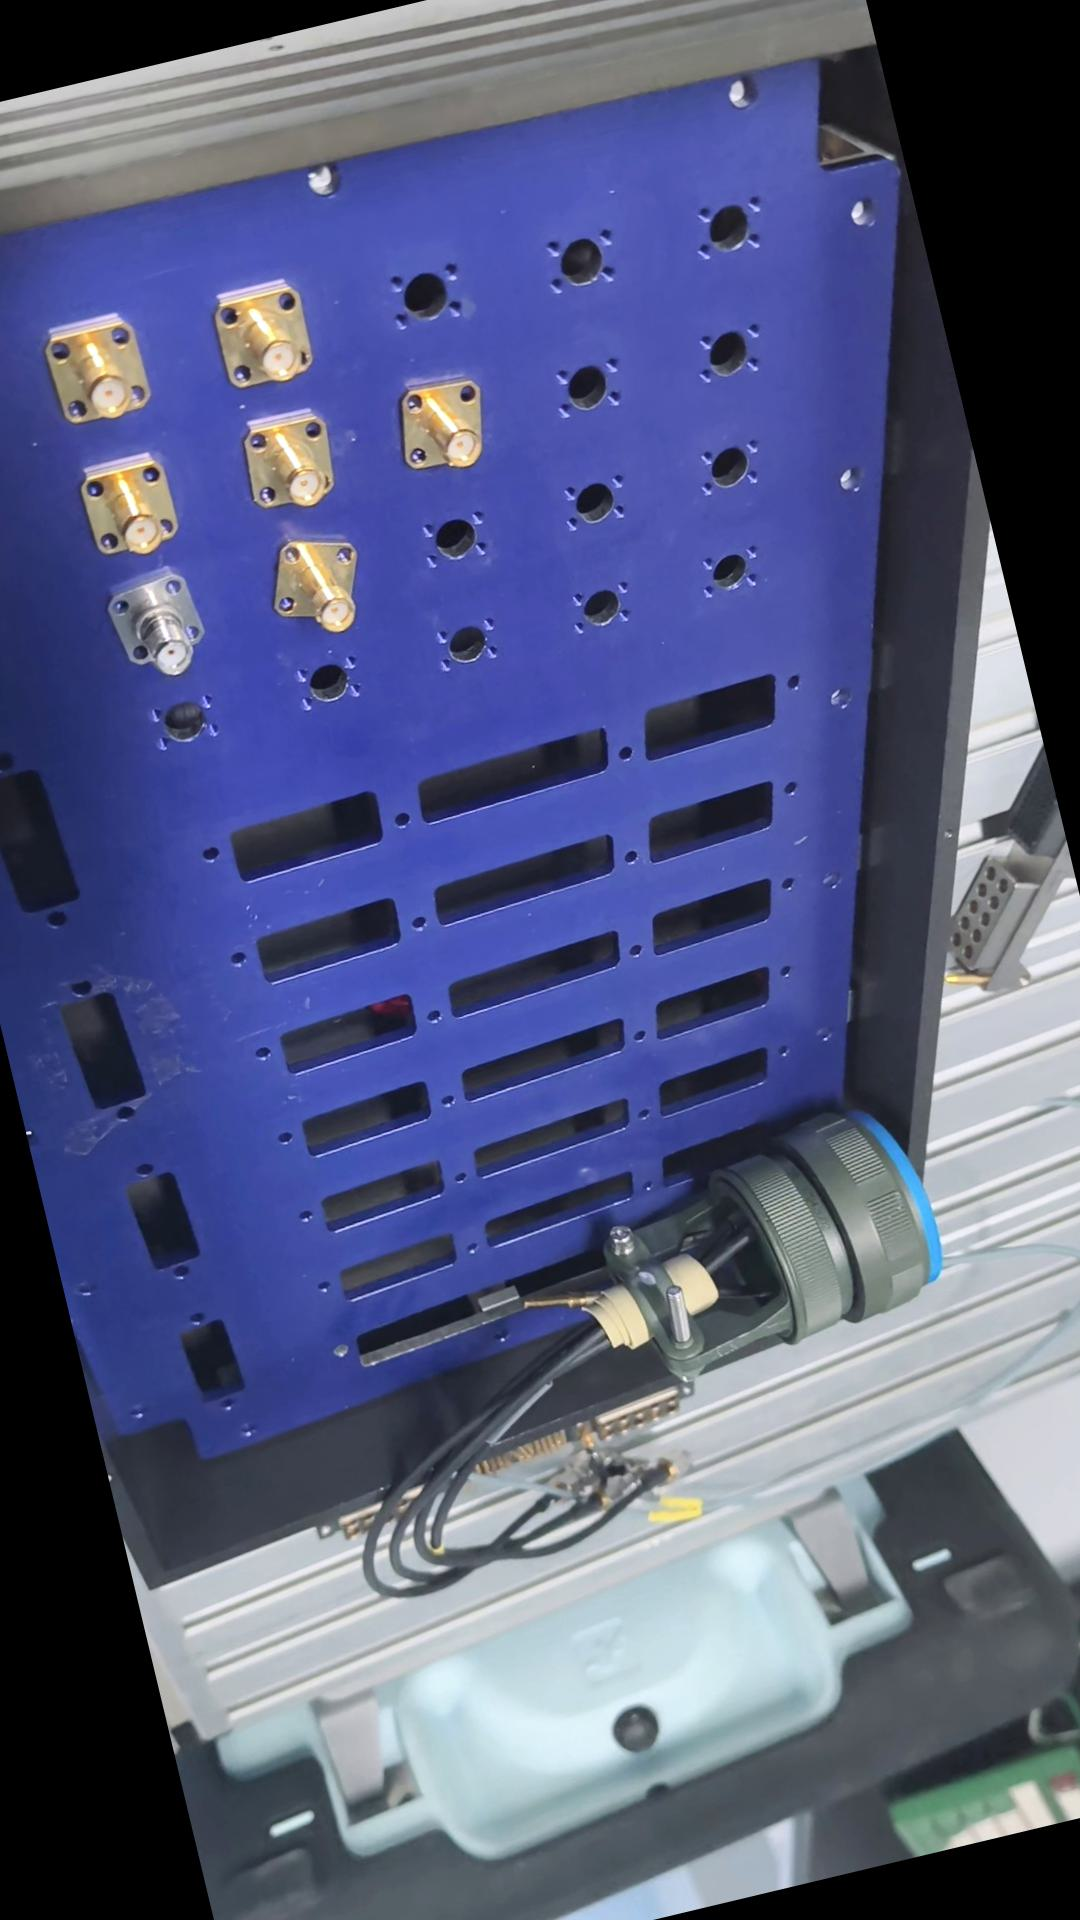SMA: (42, 303, 166, 436), (98, 563, 218, 684), (207, 272, 324, 396), (268, 520, 380, 642), (78, 448, 185, 559), (393, 367, 495, 479), (247, 407, 344, 516)
